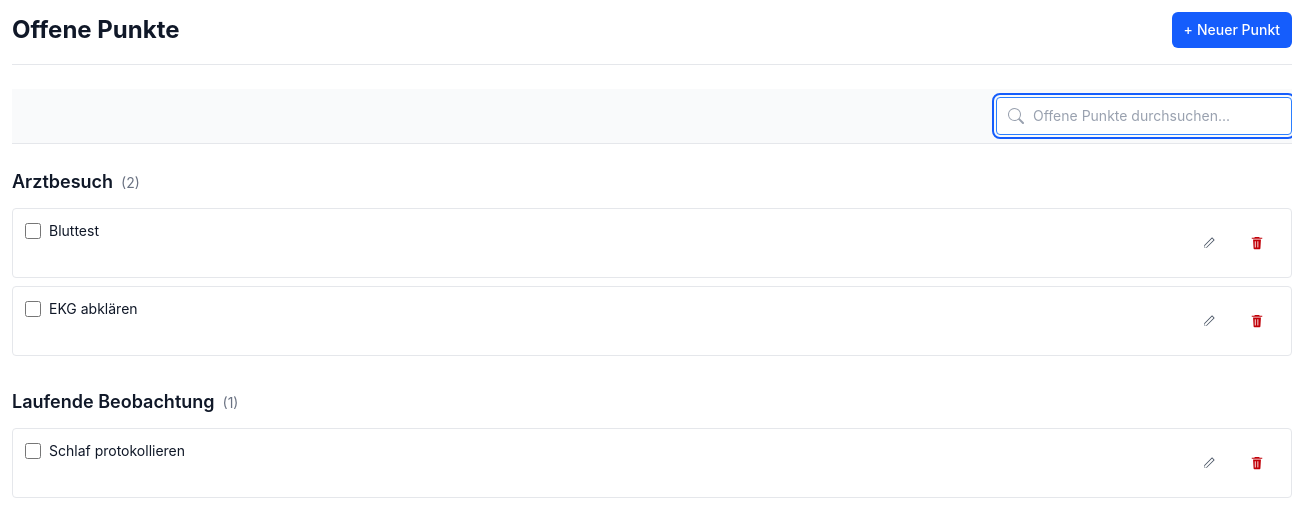
Test: OpenPointsView › search filter (P-22d) › shows the no-matches state when query has zero hits
Type "xyz" into the search field at (1144, 116), box x1=996 y1=97 x2=1292 y2=135
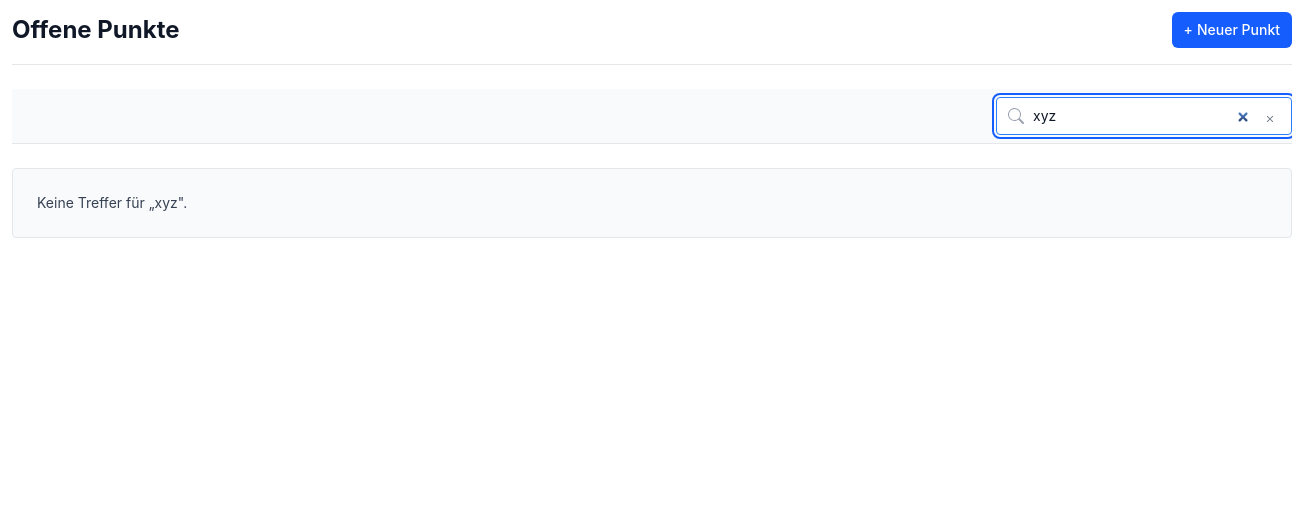
Now the message with test id "open-points-no-matches" shows "xyz", box x1=37 y1=194 x2=187 y2=211
